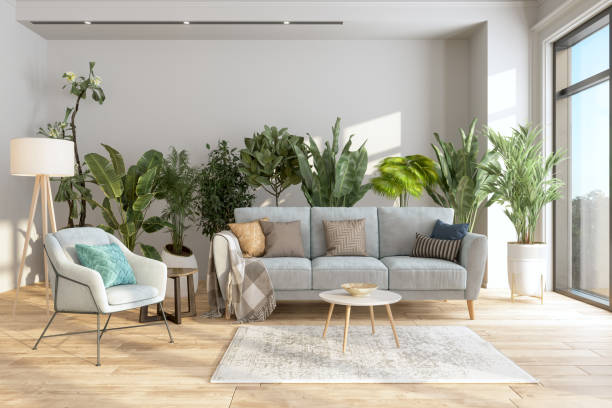chair: (31, 224, 176, 368)
floor lamp: (7, 135, 77, 318)
large plant: (495, 122, 565, 299), (51, 59, 103, 226), (86, 143, 160, 251), (298, 114, 371, 206), (434, 128, 496, 229), (159, 150, 201, 297), (245, 123, 303, 206), (203, 141, 245, 232), (375, 154, 438, 205)
side table: (136, 264, 201, 326)
sofa: (210, 202, 489, 321)
table: (315, 282, 401, 351)
